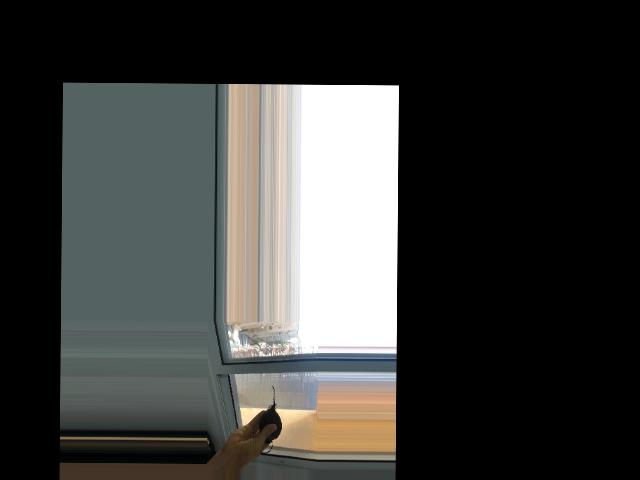beet: (252, 384, 282, 453)
